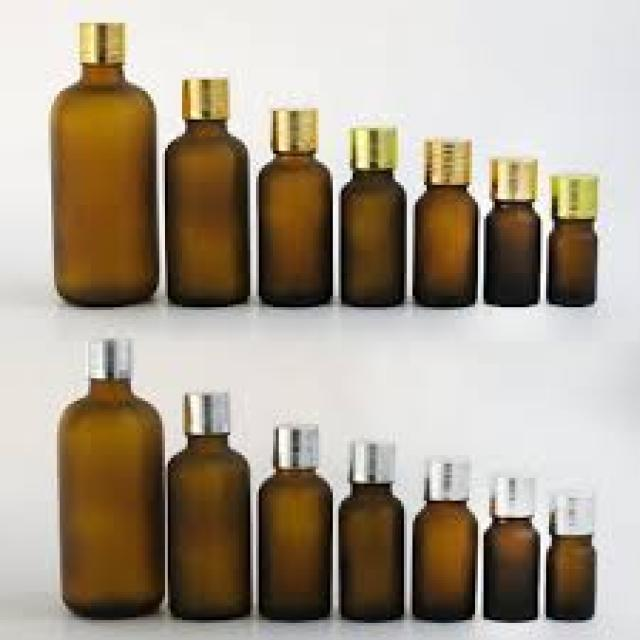Glass: (48, 63, 161, 310), (57, 378, 164, 620), (163, 120, 250, 310), (168, 436, 250, 622), (258, 152, 332, 311), (258, 468, 334, 622), (340, 168, 406, 308), (338, 486, 406, 620), (412, 501, 482, 626), (411, 186, 479, 308), (485, 202, 542, 308), (485, 519, 542, 624), (546, 531, 601, 624), (548, 220, 600, 308), (164, 268, 167, 272)
